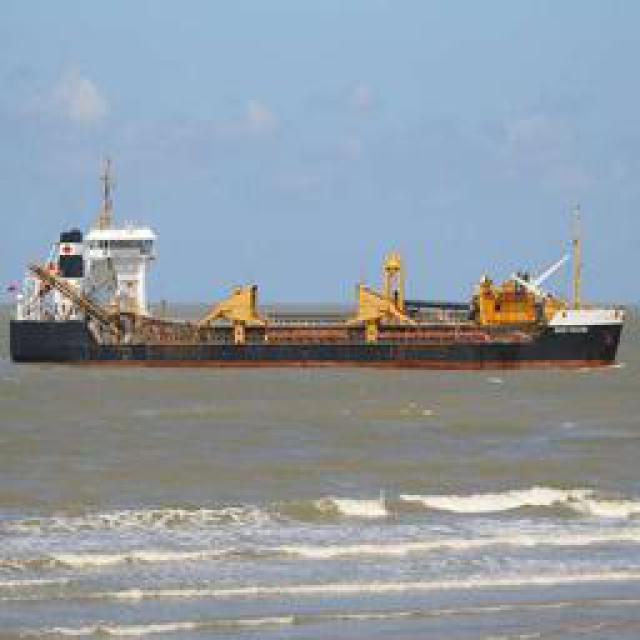Ship: (26, 249, 626, 369)
